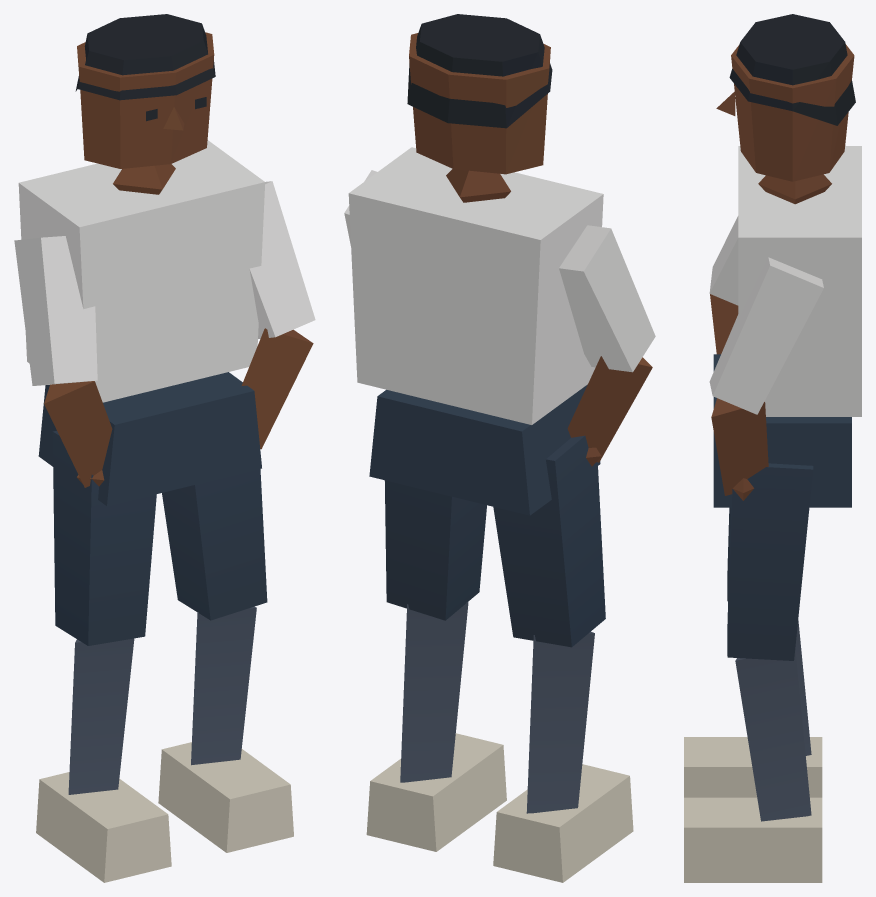
File: fan-07.glb
3 renders of one model, left to right at view 1: azimuth 30°, elevation 25°; view 2: azimuth 150°, elevation 25°; view 3: azimuth 270°, elevation 25°, orthographic. The views are drawn at different scales.
Visible parts, largest first — view 1: fan-07; view 2: fan-07; view 3: fan-07.
Part boxes in pixels (x1,y1,x2,y2): fan-07: [14, 14, 315, 882]; fan-07: [344, 14, 655, 882]; fan-07: [684, 14, 861, 882].
Bounding box in the file's own units: 0.6278 × 1.77 × 0.36.
